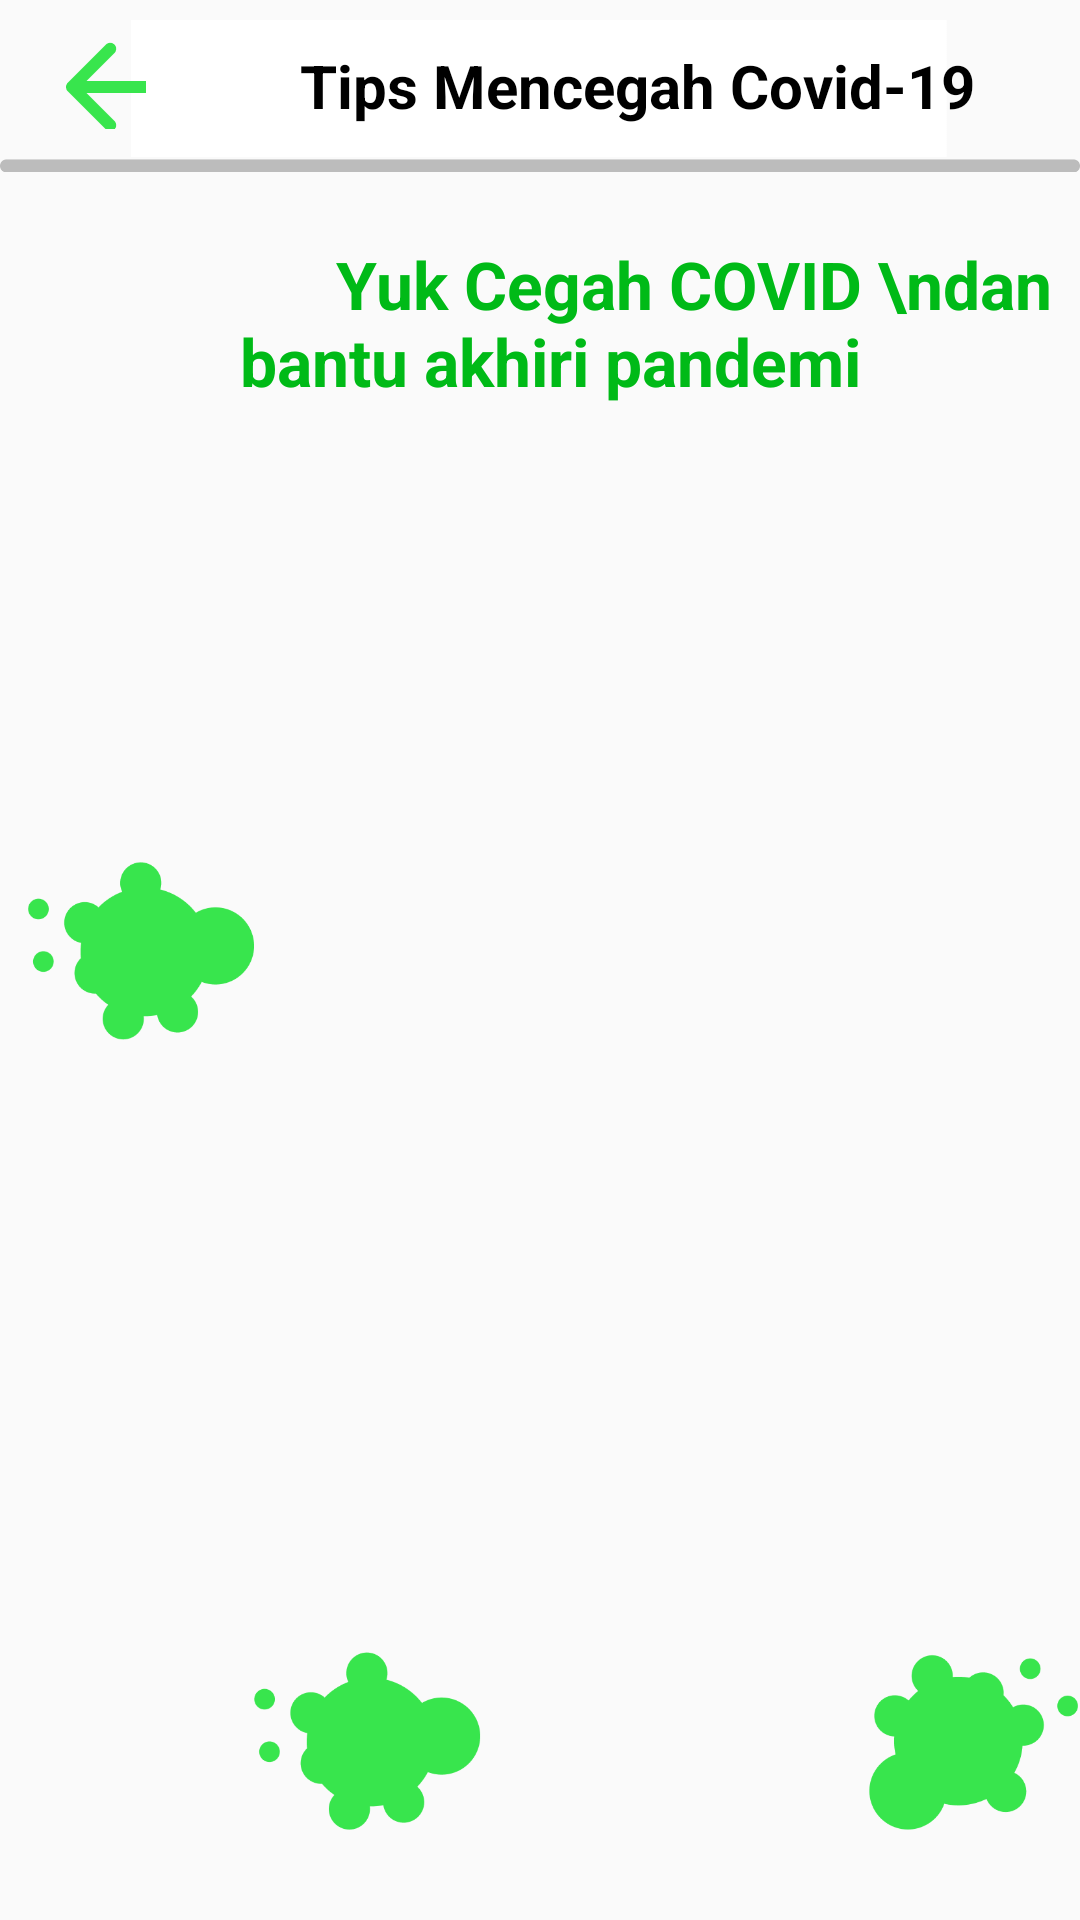

Screen size 1080w x 1920h. Icon name, then its box in pixels as {"x1": x1, "y1": y1, "x2": x2, "y2": y2}:
back: {"x1": 66, "y1": 42, "x2": 146, "y2": 129}
